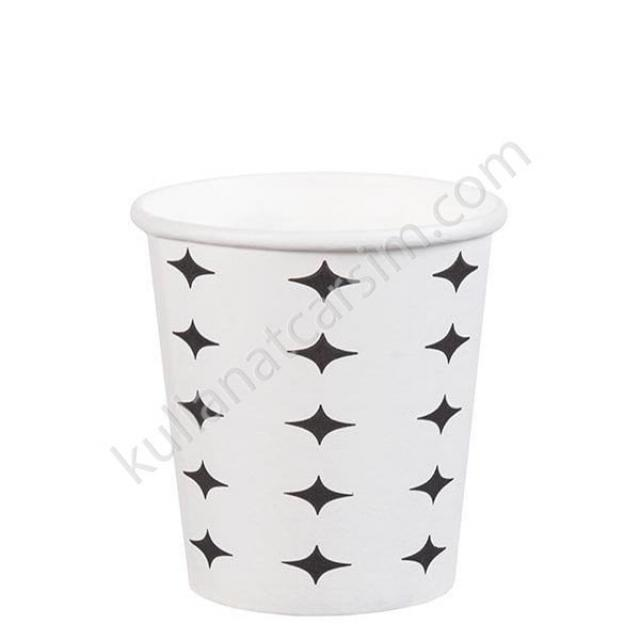karton-bardak: (132, 172, 502, 631)
